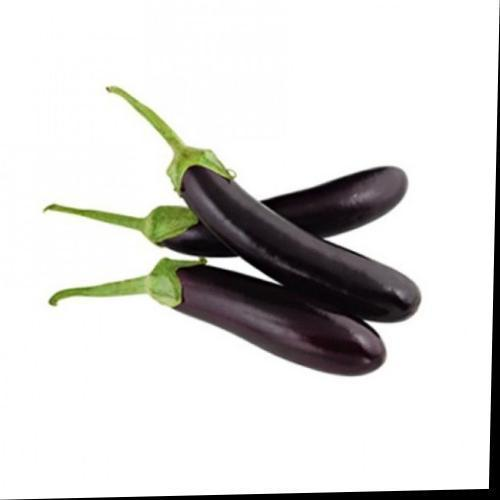eggplant: (24, 47, 453, 418)
